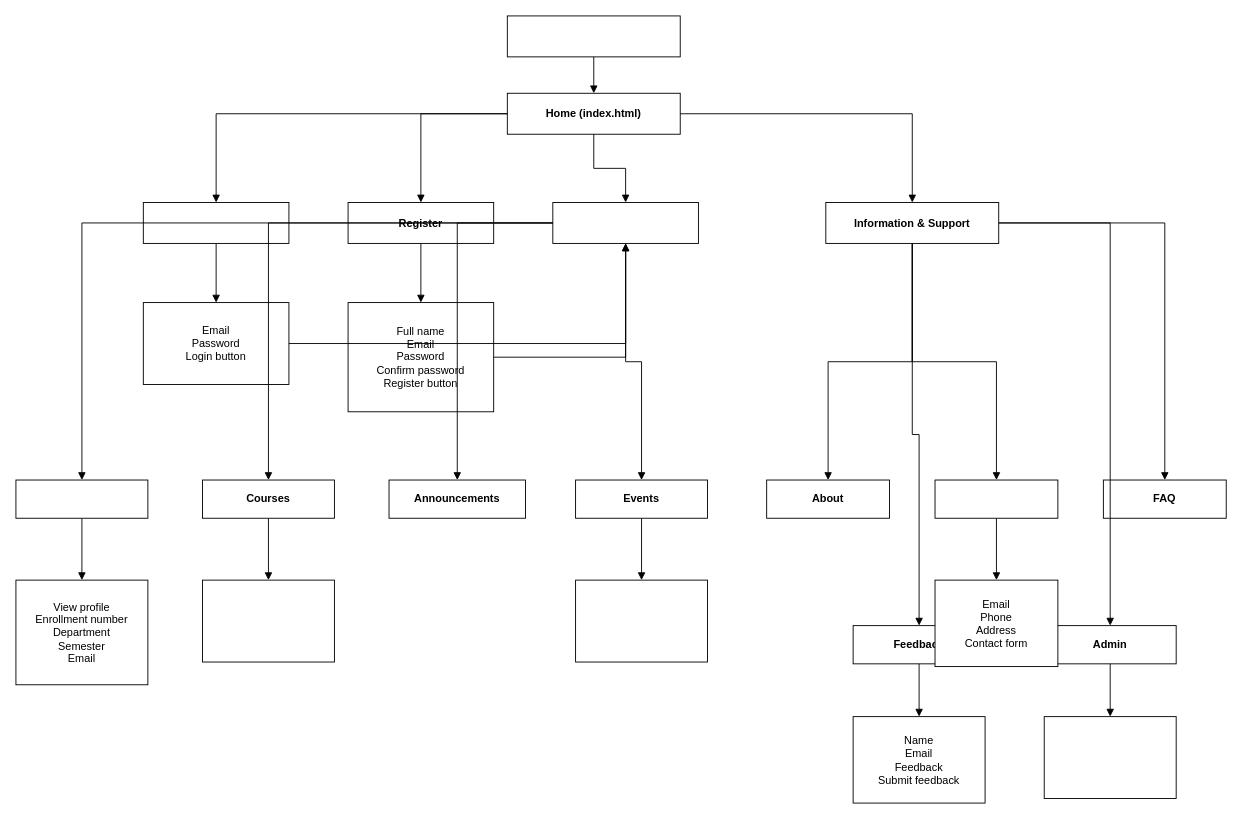
The diagram is 1242 pixels wide and 819 high, and some of its shapes have lost their labels. The centre of each missing label's shape, as x and y in pixels:
"Contact" goes at point 996,498.
"Dashboard" goes at point 625,222.
"Login" goes at point 215,222.
"Profile" goes at point 81,498.
"Registered students Upcoming events Feedback messages" goes at point 1109,757.
"Student Orientation Study Skills Workshop Career Guidance" goes at point 641,620.
"StudentHub Portal" goes at point 593,36.
"Web Development Database Fundamentals Communication Skills" goes at point 268,620.
